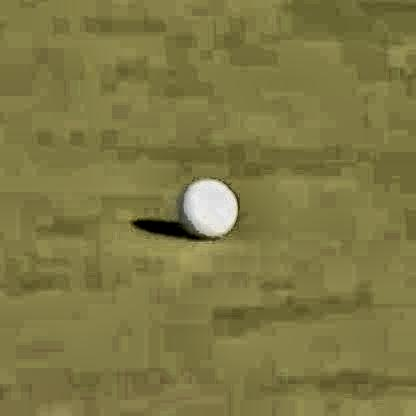golfball: (177, 170, 236, 235)
